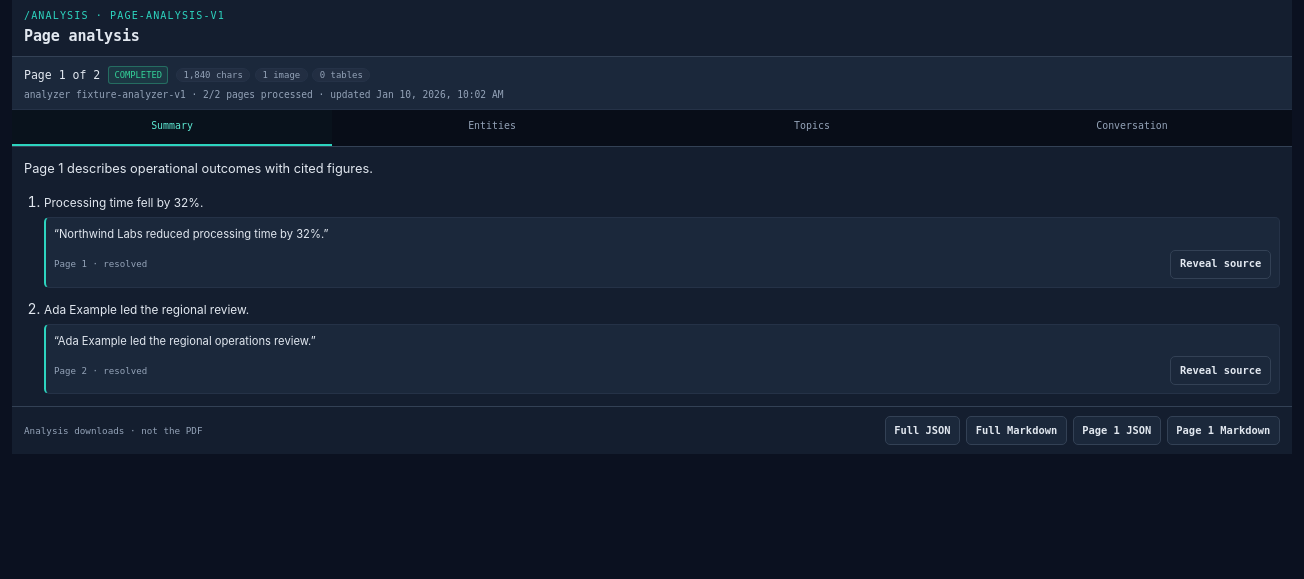
Test case: PageAnalysisPanel › topics mode shows labels, rationales, and unresolved evidence honestly
The image size is (1304, 579).
Click the tab "Topics".
click(812, 128)  # box [652, 110, 972, 146]
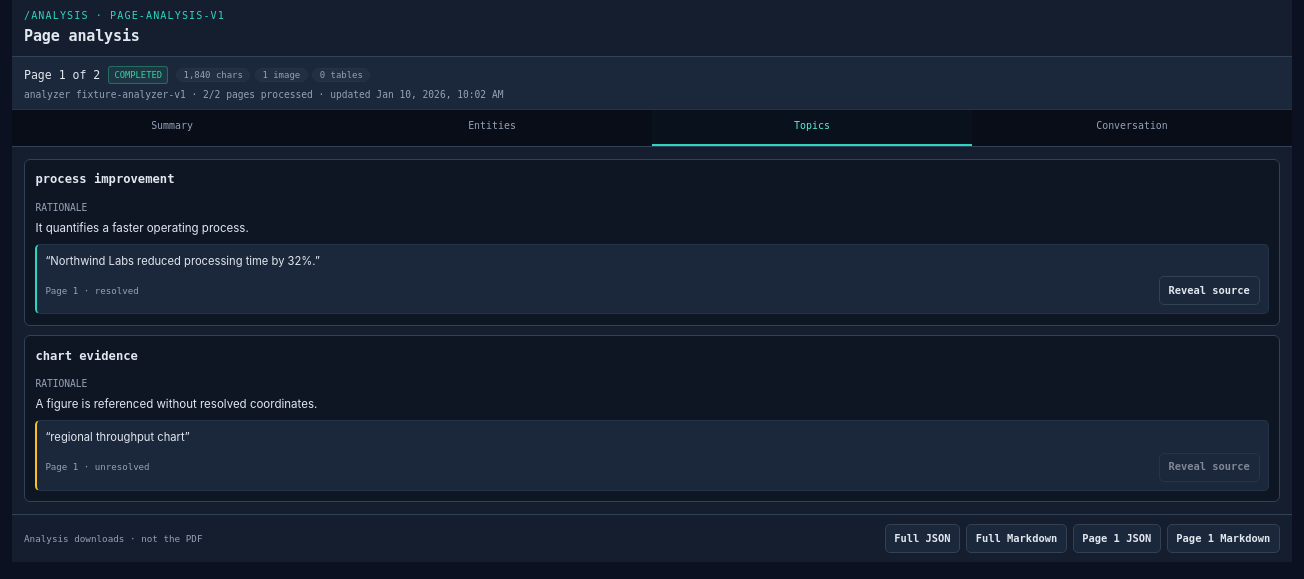
Expected: the heading "process improvement" is shown, [35, 172, 174, 186]
Expected: the text "It quantifies a faster operating process." is shown, [35, 221, 249, 235]
Expected: the text "“regional throughput chart”" is shown, [45, 430, 190, 444]
